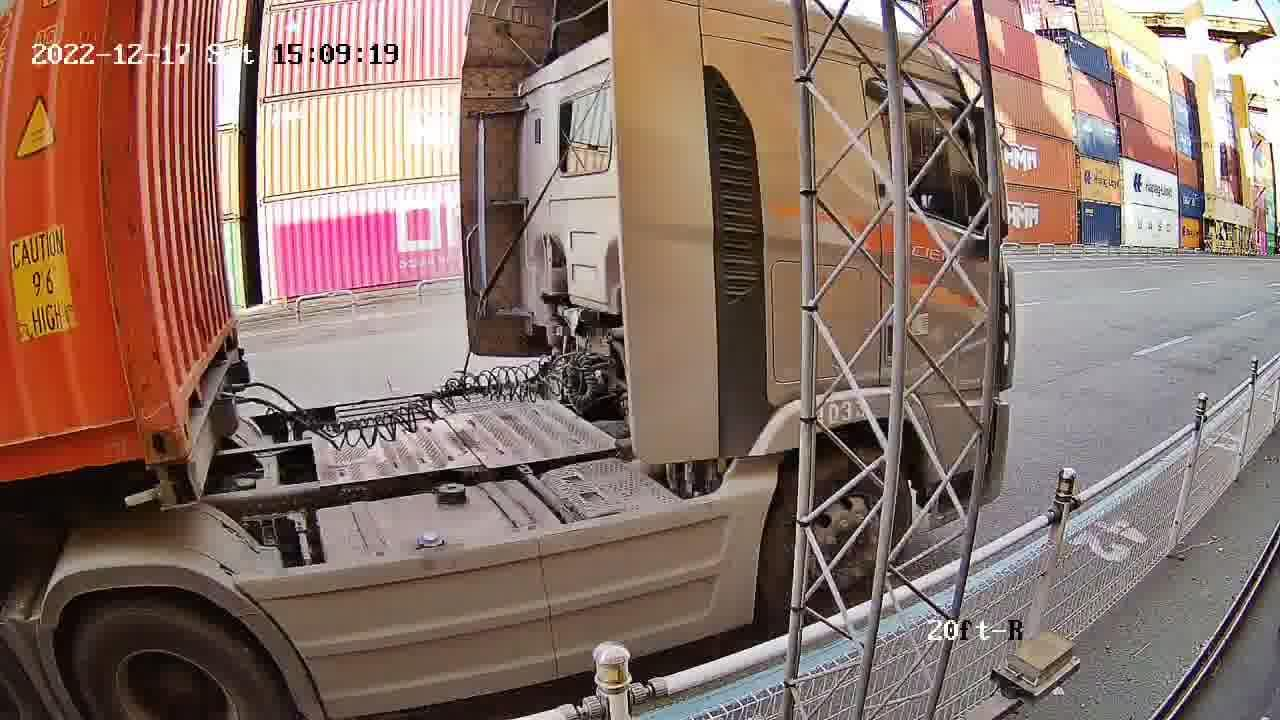Chassis: (184, 351, 253, 496)
Cone: (141, 460, 201, 512)
Hole_R: (88, 364, 191, 465)
Tire: (75, 603, 282, 717)
